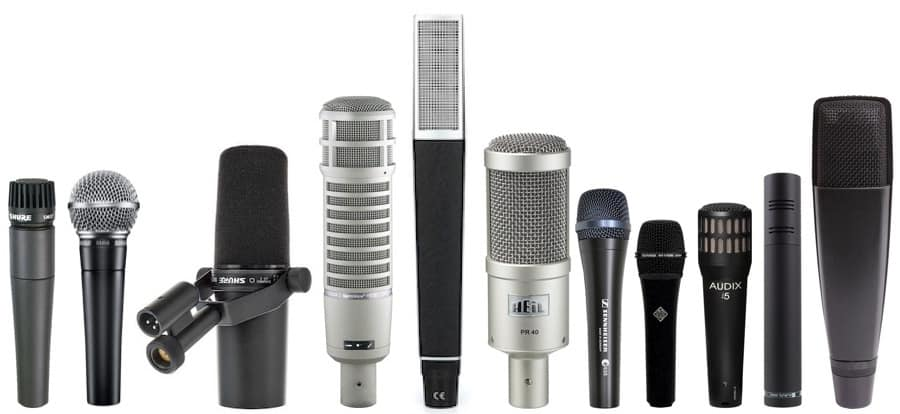microphone: (137, 137, 315, 414), (809, 91, 896, 414), (479, 130, 576, 414), (315, 94, 401, 414), (404, 5, 471, 414), (63, 166, 143, 414), (571, 179, 635, 414), (1, 173, 63, 414), (694, 198, 757, 414), (632, 210, 690, 414), (757, 171, 805, 414)
